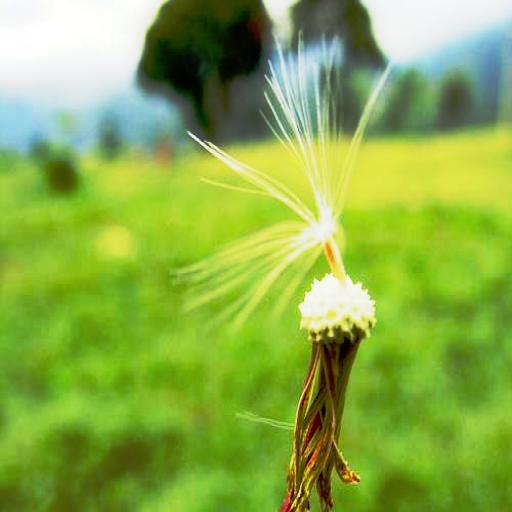dandelion: (189, 26, 427, 330)
